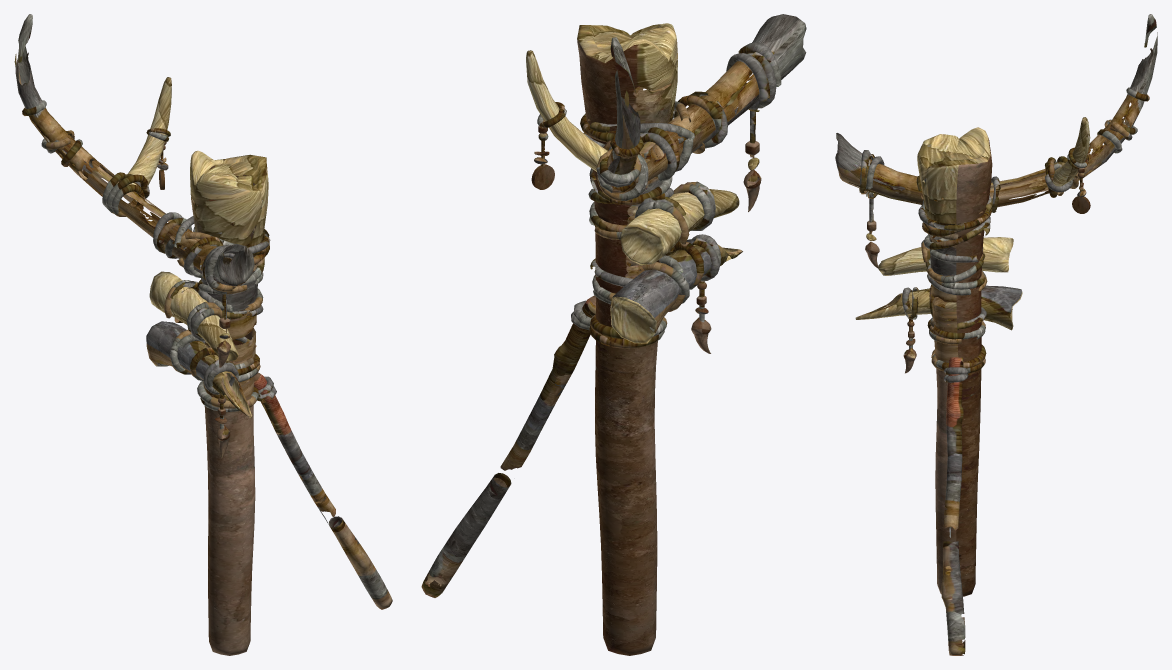
3 renders of one model, left to right at view 1: azimuth 30°, elevation 25°; view 2: azimuth 150°, elevation 25°; view 3: azimuth 270°, elevation 25°, orthographic. The views are drawn at different scales.
Visible parts, largest first — view 1: SM_Garou_Underground_Pantry_01_LOD0; view 2: SM_Garou_Underground_Pantry_01_LOD0; view 3: SM_Garou_Underground_Pantry_01_LOD0.
Boxes of the visible parts, left/top/right/bottom form: SM_Garou_Underground_Pantry_01_LOD0: left=14, top=14, right=392, bottom=655; SM_Garou_Underground_Pantry_01_LOD0: left=421, top=14, right=806, bottom=655; SM_Garou_Underground_Pantry_01_LOD0: left=835, top=14, right=1157, bottom=655.
Size of the model in its own units: 1.86 by 3.79 by 2.08.
